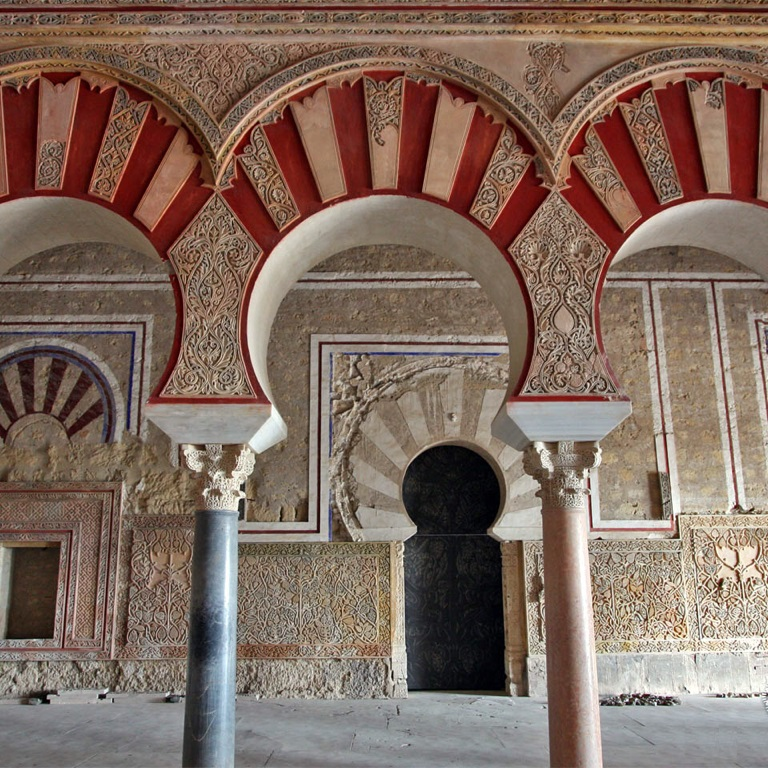arco-herradura: (217, 174, 568, 458), (1, 184, 224, 480), (568, 179, 768, 467), (385, 431, 521, 564)
